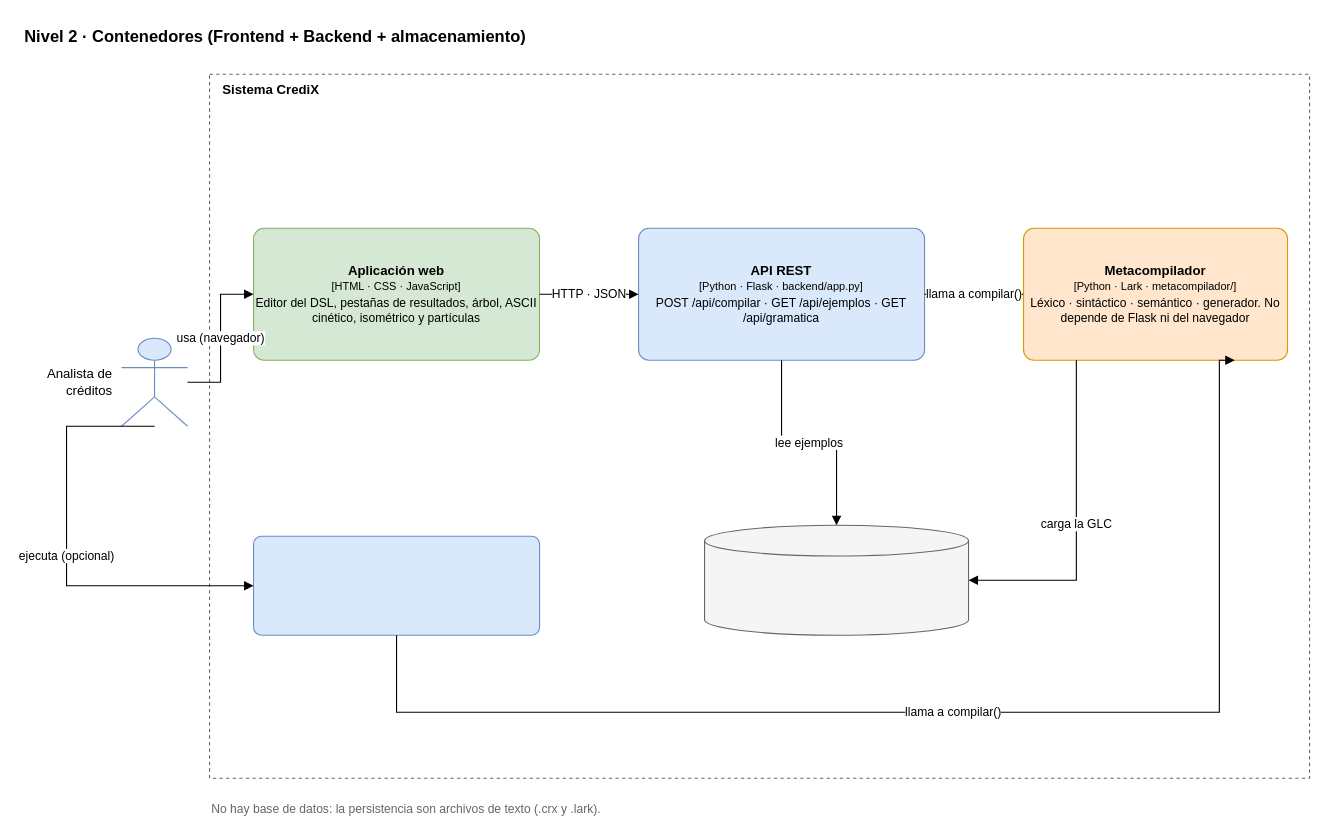
This 1329x837 diagram has some shape labels left out. The centre of each missing label's shape, as x and y in pixels:
Archivos [ejemplos/*.crx · credix.lark]: the point at 836,579
Línea de comandos [Python · credix.py] Compila un .crx desde la terminal: the point at 396,585
